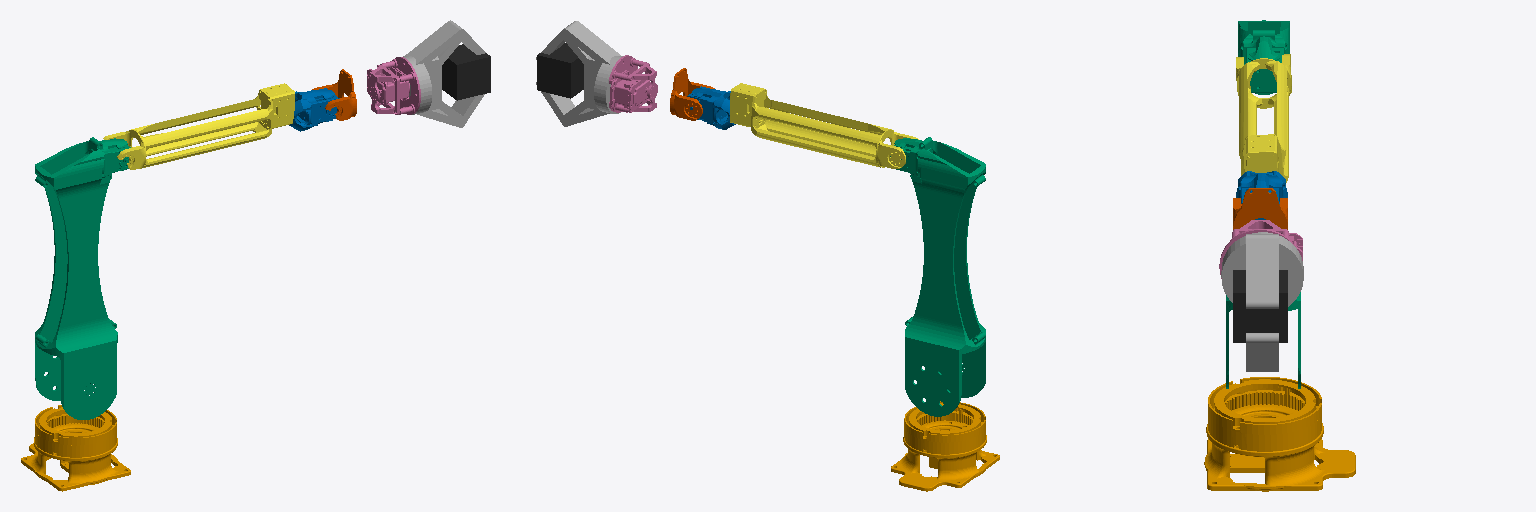
URDF robot description (cx300s):
<?xml version="1.0" encoding="utf-8"?>
<!-- =================================================================================== -->
<!-- |    This document was autogenerated by xacro from robot.xacro                    | -->
<!-- |    EDITING THIS FILE BY HAND IS NOT RECOMMENDED                                 | -->
<!-- =================================================================================== -->

<robot name="cx300s">
  <material name="black">
    <color rgba="0.0 0.0 0.0 1.0"/>
  </material>
  <material name="blue">
    <color rgba="0.0 0.0 0.8 1.0"/>
  </material>
  <material name="green">
    <color rgba="0.0 0.8 0.0 1.0"/>
  </material>
  <material name="grey">
    <color rgba="0.2 0.2 0.2 1.0"/>
  </material>
  <material name="grey2">
    <color rgba="0.2 0.2 0.2 0.1"/>
  </material>
  <material name="silver">
    <color rgba="0.913725490196 0.913725490196 0.847058823529 1.0"/>
  </material>
  <material name="orange">
    <color rgba="1.0 0.423529411765 0.0392156862745 1.0"/>
  </material>
  <material name="brown">
    <color rgba="0.870588235294 0.811764705882 0.764705882353 1.0"/>
  </material>
  <material name="red">
    <color rgba="0.8 0.0 0.0 1.0"/>
  </material>
  <material name="white">
    <color rgba="1.0 1.0 1.0 1.0"/>
  </material>

 <link name="base">
    <visual>
      <origin rpy="0 0 0" xyz="0 0 0"/>
      <geometry>
        <mesh filename="package://cx300s_meshes/base.stl" scale="0.001 0.001 0.001"/>
      </geometry>
      <material name="interbotix_black"/>
    </visual>
    <collision>
      <origin rpy="0 0 0" xyz="0 0 0"/>
      <geometry>
        <mesh filename="package://cx300s_meshes/base.stl" scale="0.001 0.001 0.001"/>
      </geometry>
    </collision>
    <inertial> 
            <mass value="0.24"/>
            <inertia ixx="0" ixy="0.06" ixz="1" iyy="0" iyz="1" izz="-0.06"/>
        </inertial> 
        <contact> 
            <lateral_friction value="1"/>
        </contact>
  </link>

 <link name="waist">
    <visual>
      <origin rpy="0 0 0" xyz="0 0 0"/>
      <geometry>
        <mesh filename="package://cx300s_meshes/waist.stl" scale="0.001 0.001 0.001"/>
      </geometry>
      <material name="interbotix_black"/>
    </visual>
    <collision>
      <origin rpy="0 0 0" xyz="0 0 0"/>
      <geometry>
        <mesh filename="package://cx300s_meshes/waist.stl" scale="0.001 0.001 0.001"/>
      </geometry>
    </collision>
    <inertial> 
            <mass value="0.23"/>
            <inertia ixx="0" ixy="1" ixz="-0.06" iyy="0" iyz="0" izz="1"/>
        </inertial> 
        <contact> 
            <lateral_friction value="1"/>
        </contact>
  </link>

  <joint name="base_waist" type="revolute">
    <origin rpy="0 0 3.14" xyz="0 0 0.054"/>
    <parent link="base"/>
    <child link="waist"/>
    <axis xyz="0 0 1"/>
    <dynamics damping="0" friction="0"/>
    <limit effort="100" lower="-3.14" upper="3.14" velocity="20"/>
  </joint>

 <link name="shoulder">
    <visual>
      <origin rpy="0 0 0" xyz="0 0 0"/>
      <geometry>
        <mesh filename="package://cx300s_meshes/shoulder.stl" scale="0.001 0.001 0.001"/>
      </geometry>
      <material name="interbotix_black"/>
    </visual>
    <collision>
      <origin rpy="0 0 0" xyz="0 0 0"/>
      <geometry>
        <mesh filename="package://cx300s_meshes/shoulder.stl" scale="0.001 0.001 0.001"/>
      </geometry>
    </collision>
    <inertial> 
            <mass value="0.31"/>
            <inertia ixx="0" ixy="1" ixz="0.04" iyy="-0.04" iyz="1" izz="0"/>
        </inertial> 
        <contact> 
            <lateral_friction value="1"/>
        </contact>
  </link>

  <joint name="waist_shoulder" type="revolute">
    <origin rpy="0 0 0" xyz="0 0 0.07"/>
    <parent link="waist"/>
    <child link="shoulder"/>
    <axis xyz="0 -1 0"/>
    <dynamics damping="0" friction="0"/>
    <limit effort="100" lower="-3.14" upper="3.14" velocity="20"/>
  </joint>


 <link name="forearm">
    <visual>
      <origin rpy="0 0 0" xyz="0 0 0"/>
      <geometry>
        <mesh filename="package://cx300s_meshes/forearm.stl" scale="0.001 0.001 0.001"/>
      </geometry>
      <material name="interbotix_black"/>
    </visual>
    <collision>
      <origin rpy="0 0 0" xyz="0 0 0"/>
      <geometry>
        <mesh filename="package://cx300s_meshes/forearm.stl" scale="0.001 0.001 0.001"/>
      </geometry>
    </collision>
    <inertial> 
            <mass value="0.1"/>
            <inertia ixx="0" ixy="1" ixz="0" iyy="0" iyz="0" izz="1"/>
        </inertial> 
        <contact> 
            <lateral_friction value="1"/>
        </contact>
  </link>

  <joint name="arm_forearm" type="revolute">
    <origin rpy="0 -1.57 0" xyz="-0.06 0 0.3"/>
    <parent link="shoulder"/>
    <child link="forearm"/>
    <axis xyz="0 -1 0"/>
    <dynamics damping="0" friction="0"/>
    <limit effort="100" lower="-3.14" upper="3.14" velocity="20"/>
  </joint>

 <link name="wrist">
    <visual>
      <origin rpy="0 0 0" xyz="0 0 0"/>
      <geometry>
        <mesh filename="package://cx300s_meshes/wrist.stl" scale="0.001 0.001 0.001"/>
      </geometry>
      <material name="interbotix_black"/>
    </visual>
    <collision>
      <origin rpy="0 0 0" xyz="0 0 0"/>
      <geometry>
        <mesh filename="package://cx300s_meshes/wrist.stl" scale="0.001 0.001 0.001"/>
      </geometry>
    </collision>
    <inertial> 
            <mass value="0.11"/>
            <inertia ixx="0" ixy="1" ixz="0" iyy="0" iyz="0" izz="1"/>
        </inertial> 
        <contact> 
            <lateral_friction value="1"/>
        </contact>
  </link>

  <joint name="forearm_wrist" type="revolute">
    <origin rpy="0 0 0" xyz="0 0 0.25"/>
    <parent link="forearm"/>
    <child link="wrist"/>
    <axis xyz="0 0 1"/>
    <dynamics damping="0" friction="0"/>
    <limit effort="100" lower="-3.14" upper="3.14" velocity="20"/>
  </joint>

 <link name="wrist2">
    <visual>
      <origin rpy="0 0 0" xyz="0 0 0"/>
      <geometry>
        <mesh filename="package://cx300s_meshes/wrist2.stl" scale="0.001 0.001 0.001"/>
      </geometry>
      <material name="interbotix_black"/>
    </visual>
    <collision>
      <origin rpy="0 0 0" xyz="0 0 0"/>
      <geometry>
        <mesh filename="package://cx300s_meshes/wrist2.stl" scale="0.001 0.001 0.001"/>
      </geometry>
    </collision>
    <inertial> 
            <mass value="0.1"/>
            <inertia ixx="0.02" ixy="0.98" ixz="0.18" iyy="-0.18" iyz="0.98" izz="0.02"/>
        </inertial> 
        <contact> 
            <lateral_friction value="1"/>
        </contact>
  </link>

  <joint name="wrist_wrist2" type="revolute">
    <origin rpy="0 0 0" xyz="0 0.002 0.054"/>
    <parent link="wrist"/>
    <child link="wrist2"/>
    <axis xyz="0 -1 0"/>
    <dynamics damping="0" friction="0"/>
    <limit effort="100" lower="-3.14" upper="3.14" velocity="20"/>
  </joint>

<link name="wrist3">
    <visual>
      <origin rpy="0 0 0" xyz="0 0 0"/>
      <geometry>
        <mesh filename="package://cx300s_meshes/ee_wrist.stl" scale="0.001 0.001 0.001"/>
      </geometry>
      <material name="interbotix_black"/>
    </visual>
    <collision>
      <origin rpy="0 0 0" xyz="0 0 0"/>
      <geometry>
        <mesh filename="package://cx300s_meshes/ee_wrist.stl" scale="0.001 0.001 0.001"/>
      </geometry>
    </collision>
    <inertial> 
            <mass value="0.11"/>
            <inertia ixx="0" ixy="1" ixz="0" iyy="0" iyz="0" izz="1"/>
        </inertial> 
        <contact> 
            <lateral_friction value="1"/>
        </contact>
  </link>

  <joint name="wrist2_wrist3" type="revolute">
    <origin rpy="0 0 0" xyz="0 0 0.07"/>
    <parent link="wrist2"/>
    <child link="wrist3"/>
    <axis xyz="0 0 1"/>
    <dynamics damping="0" friction="0"/>
    <limit effort="100" lower="-3.14" upper="3.14" velocity="20"/>
  </joint>

  <link name="ee">
    <visual>
      <origin rpy="0 0 0" xyz="0 0 0"/>
      <geometry>
        <mesh filename="package://cx300s_meshes/ee.stl" scale="0.001 0.001 0.001"/>
      </geometry>
      <material name="interbotix_black"/>
    </visual>
    <collision>
      <origin rpy="0 0 0" xyz="0 0 0"/>
      <geometry>
        <mesh filename="package://cx300s_meshes/ee.stl" scale="0.001 0.001 0.001"/>
      </geometry>
    </collision>
    <inertial> 
            <mass value="0.11"/>
            <inertia ixx="0" ixy="1" ixz="0" iyy="0" iyz="0" izz="1"/>
        </inertial> 
        <contact> 
            <lateral_friction value="1"/>
        </contact>
  </link>

  <joint name="wrist3_ee" type="fixed">
    <origin rpy="0 0 0" xyz="0 0 0.047"/>
    <parent link="wrist3"/>
    <child link="ee"/>
  </joint>

    <link name="end_effector">
        <visual> 
            <geometry> 
                <box size="0.05 0.05 0.05"/>
                <origin rpy="0 0 0" xyz="0 0 0"/>
            </geometry>
            <material name="grey2"/>
        </visual>
    </link> 

    <joint name="fart" type="fixed">
        <origin rpy="0 0 0" xyz="0 0 0.085"/>
        <parent link="ee"/>
        <child link="end_effector"/>
    </joint>


</robot>

--- Render facts (derived) ---
Views: 3 orthographic renders of the robot side by side, from view 1: azimuth 30°, elevation 25°; view 2: azimuth 150°, elevation 25°; view 3: azimuth 270°, elevation 25°.
Model cx300s with 9 links and 8 joints (6 revolute, 2 fixed), rooted at base, posed every joint at zero.
Links seen in each view (by area): view 1: shoulder, forearm, base, ee, wrist3, end_effector, wrist, wrist2; view 2: shoulder, forearm, base, ee, wrist3, end_effector, wrist, wrist2; view 3: base, ee, forearm, shoulder, end_effector, wrist2, wrist, wrist3.
Link boxes in pixels (x1,y1,x2,y2): shoulder: (35, 137, 130, 419); forearm: (103, 83, 294, 169); base: (21, 405, 130, 491); ee: (403, 20, 485, 127); wrist3: (367, 57, 420, 114); end_effector: (442, 44, 490, 100); wrist: (289, 88, 339, 131); wrist2: (312, 69, 356, 120); shoulder: (890, 137, 985, 416); forearm: (730, 83, 918, 168); base: (891, 401, 999, 491); ee: (536, 21, 622, 126); wrist3: (609, 55, 657, 112); end_effector: (537, 43, 583, 98); wrist: (687, 86, 735, 129); wrist2: (670, 68, 714, 120); base: (1204, 377, 1355, 491); ee: (1221, 232, 1303, 371); forearm: (1236, 54, 1291, 182); shoulder: (1226, 20, 1300, 388); end_effector: (1233, 270, 1287, 342); wrist2: (1233, 188, 1287, 229); wrist: (1236, 171, 1287, 219); wrist3: (1219, 220, 1302, 278).
Size in the robot's own frame: 0.6524 by 0.1379 by 0.4913 metres.
7 mesh visuals loaded from 8 distinct referenced files (7 binary STL); not drawn: 1 (reference not matched to a file when rendering).